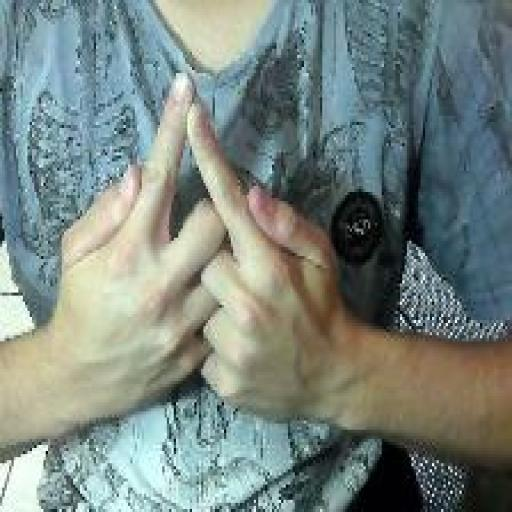Uma -horse-: (55, 67, 340, 430)
